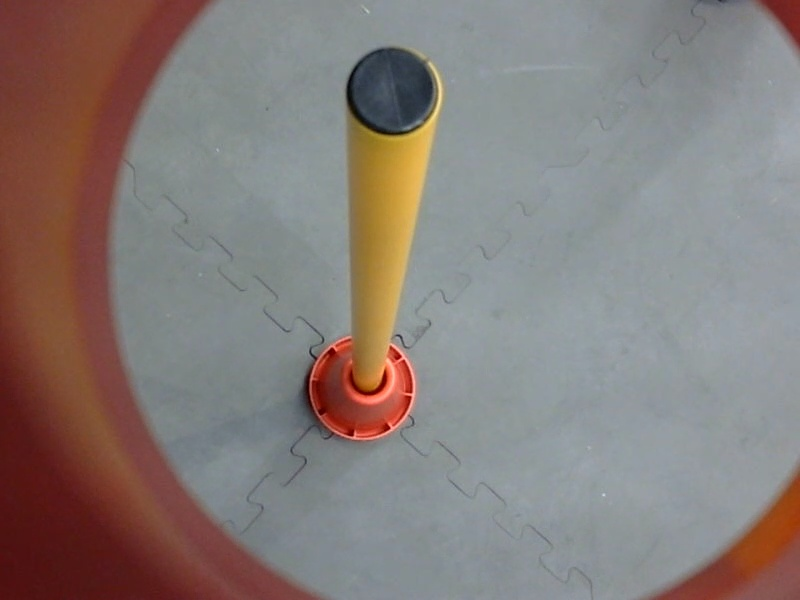tip: (335, 39, 451, 149)
